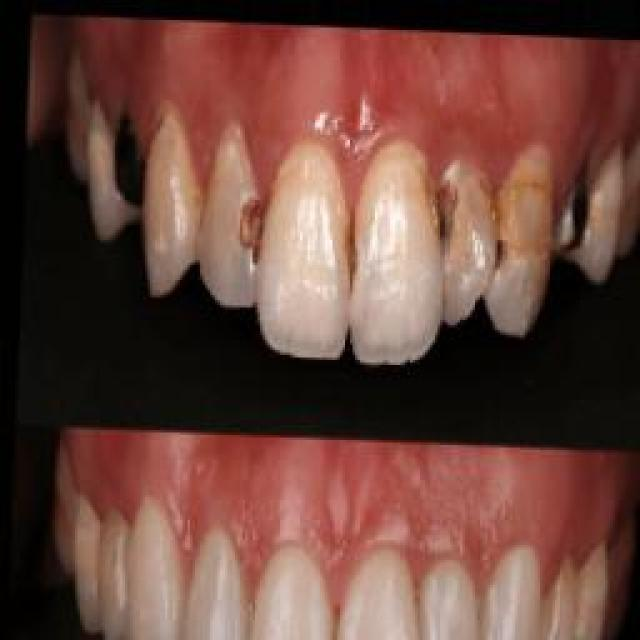Caries: (200, 122, 258, 309), (442, 160, 498, 326)
